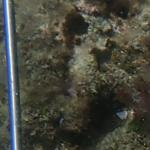dead: (14, 2, 143, 146)
